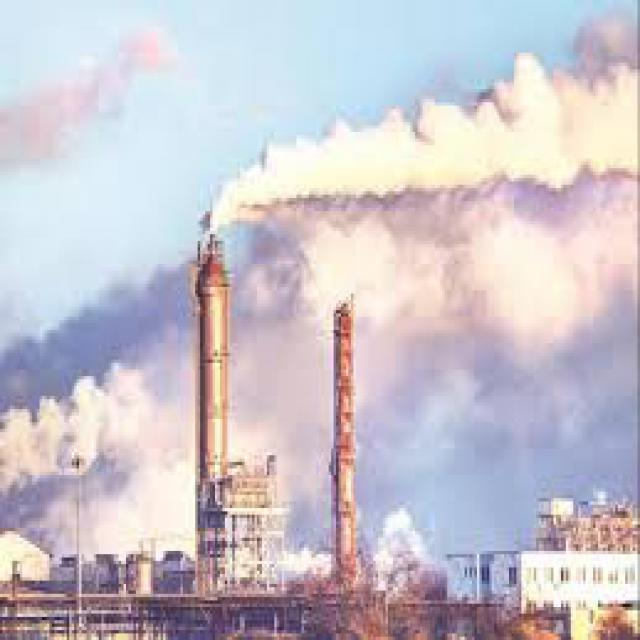Smoke: (194, 54, 630, 213)
